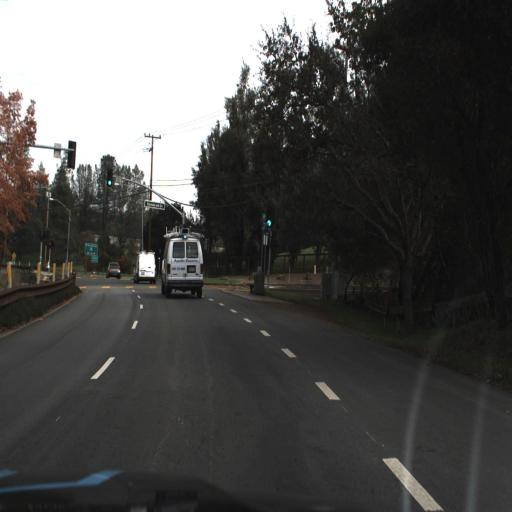car: (159, 233, 202, 299), (133, 247, 156, 286), (105, 256, 122, 282)
trafficLight-Green: (102, 161, 116, 189), (261, 216, 275, 236), (265, 206, 275, 230)
